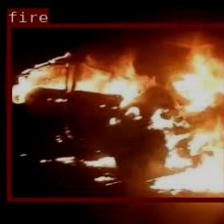fire: (5, 22, 224, 200)
